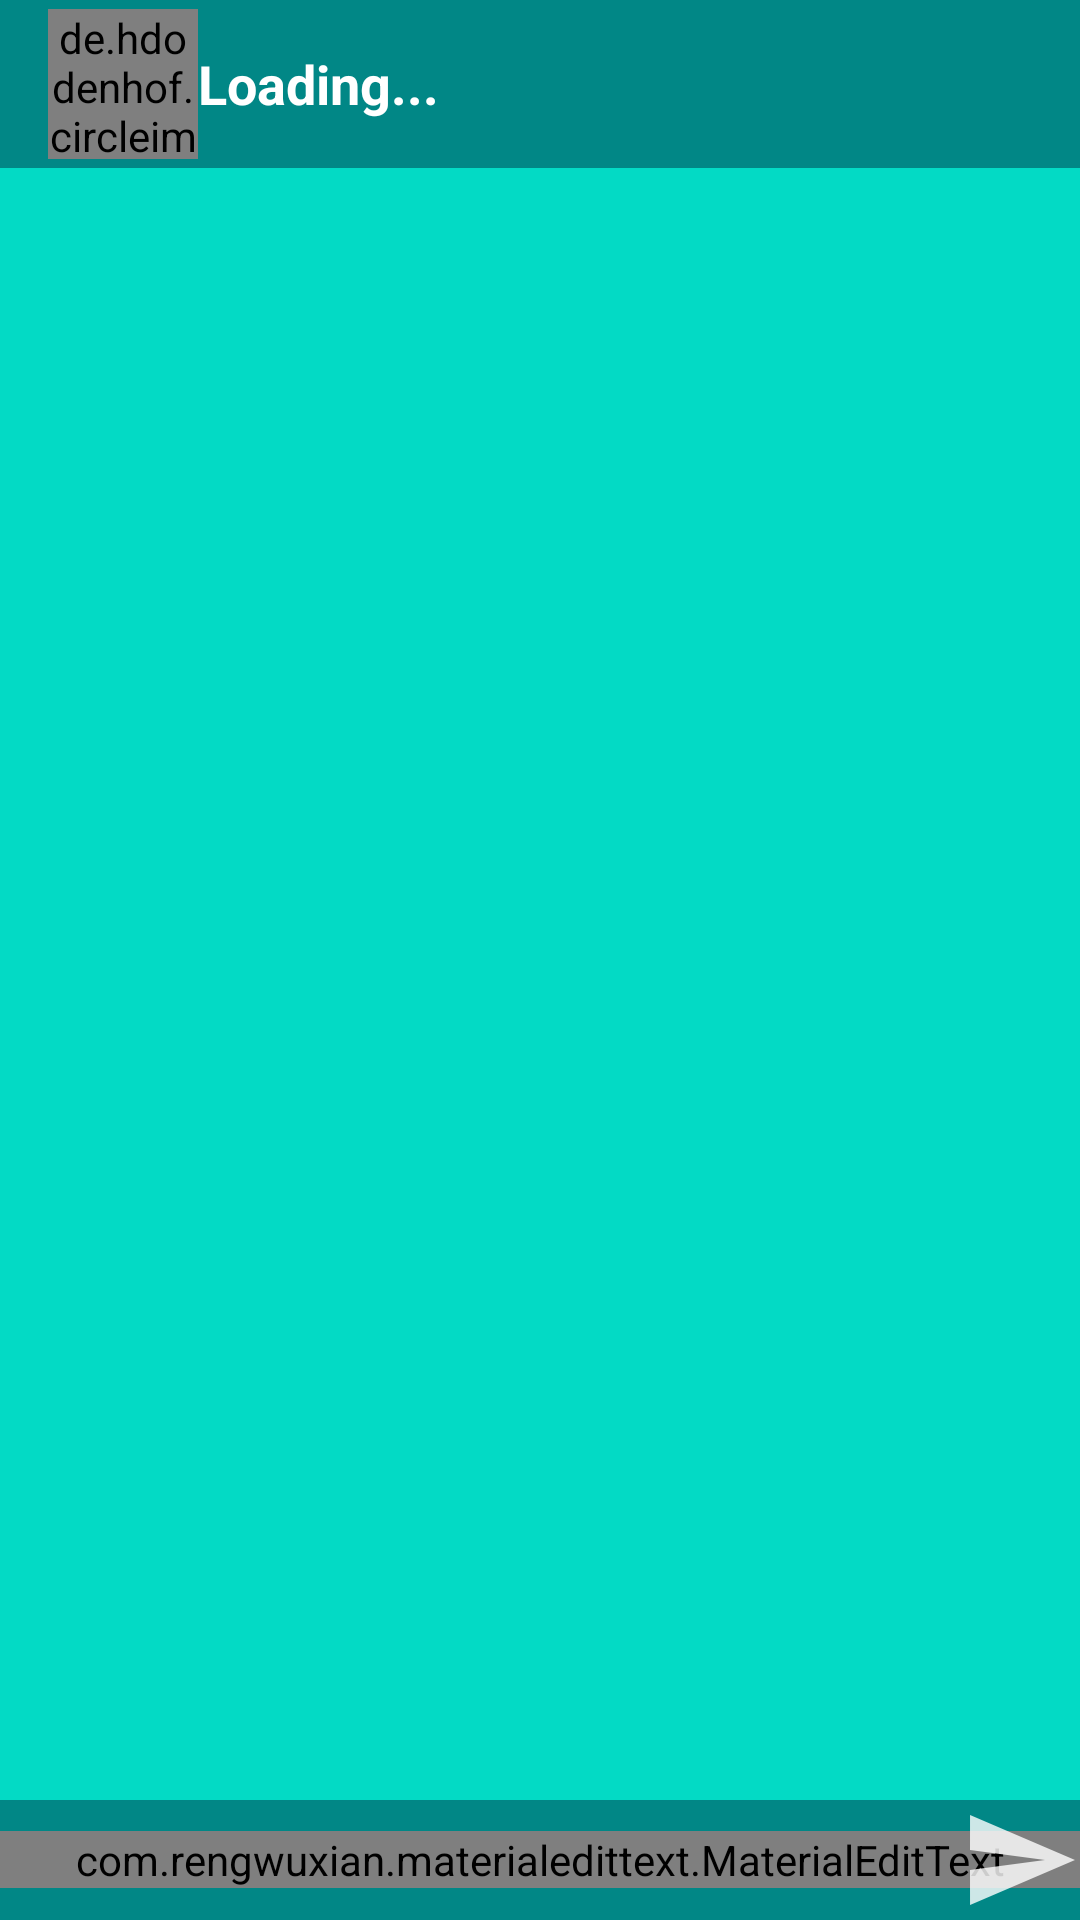

Icon click points for this 1080×1920 phone screenshot, format (x,y):
send: (1020,1860)
